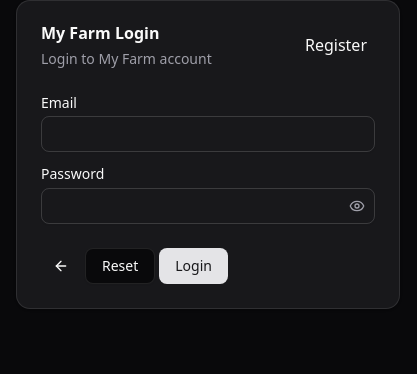
Test: Login Form Tests › Password Error render Correctly
Click the button "Login" at (194, 266), box x1=159 y1=248 x2=228 y2=284
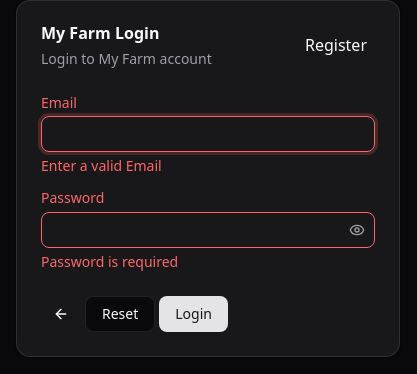
Expected: the text "Enter a valid Email" is shown, x1=41 y1=156 x2=162 y2=175
Expected: the text "Password is required" is shown, x1=41 y1=252 x2=178 y2=270
Type "test@test.com" into the field labelled "Email" at (208, 134), box x1=41 y1=116 x2=375 y2=152
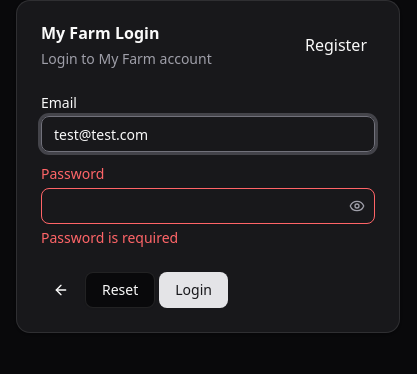
Type "test" into the password field labelled "Password" at (194, 206), box x1=42 y1=188 x2=345 y2=224
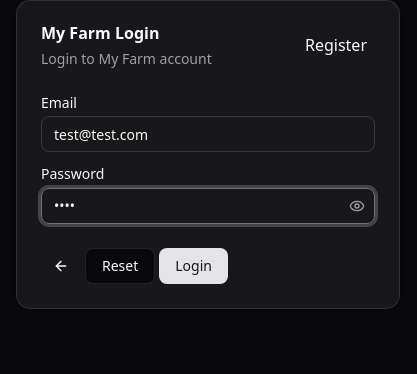
Expected: the text "Enter a valid Email" is not shown
Expected: the text "Password is required" is gone
